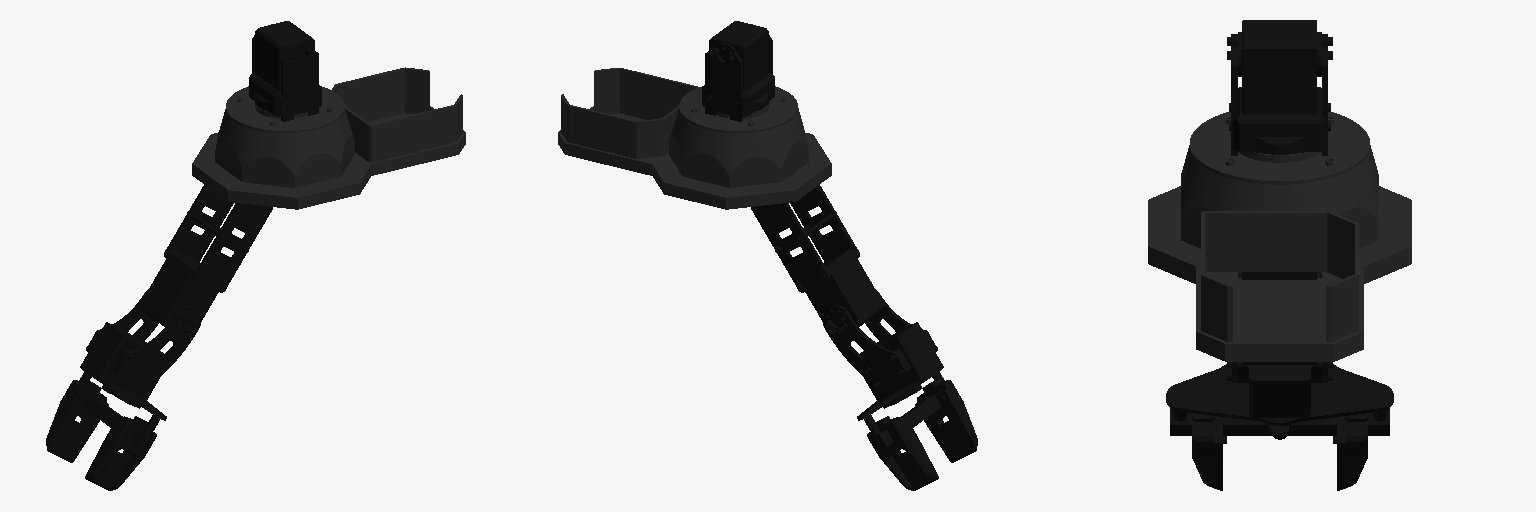
The robot description file, URDF, robot "px_robot_CV":
<?xml version="1.0"?>
<robot name="px_robot_CV">

  <link name="world"></link>

  <link name="base_link">
    <visual name="">
      <origin xyz="0.0 0.0 0.0" rpy="0.0 0.0 -1.5707"/><!--Simplemente se giró pi/2 el mundo-->
      <geometry>
        <mesh filename="package://px_robot_CV/meshes/PX100_Base.stl" scale="0.001 0.001 0.001"/><!--se asigna el modelo base y su escala -->
      </geometry>
      <material name="dark gray">
        <color rgba="0.2 0.2 0.2 1.0"/><!--color-->
      </material>
    </visual>
  </link>

  <joint name="world_fixed" type="fixed"> <!--primera junta que conecta la base con el piso -->
    <origin xyz="0.0 0.0 0.0" rpy="0.0 0.0 0.0"/>
    <parent link="world"/>
    <child link="base_link"/>
  </joint>

  <link name="link1"><!--el primero que es la base giratoria-->
    <visual name="">
      <origin xyz="0.0 0.0 0.0" rpy="3.141592 3.141592 1.5707"/><!--los origenees siempre son cero cero cero porque su marco es respecto al link que le correspode -->
      <geometry>
        <mesh filename="package://px_robot_CV/meshes/PX100_Shoulder.stl" scale="0.001 0.001 0.001"/>
      </geometry>
      <material name="dark gray">
        <color rgba="0.1 0.1 0.1 1.0"/>
      </material>
    </visual>
  </link>

  <joint name="joint_1" type="revolute"><!--ubicación junta 1 respecto a la base-->
    <origin xyz="0.0 0.0 0.049" rpy="0.0 0.0 3.141592"/>
    <parent link="base_link"/>
    <child link="link1"/>
    <axis xyz="0 0 1"/><!--el eje sobre el que se rota sibre su marco de referencia-->
    <limit lower="-2.32" upper="2.32" effort="10.0" velocity="1.57"/><!--limites-->
  </joint>

  <link name="link2">
    <visual name="">
      <origin xyz="0.0 0.0 0.0" rpy="0.0 1.5707 -1.5707"/>
      <geometry>
        <mesh filename="package://px_robot_CV/meshes/PX100_Bicep.stl" scale="0.001 0.001 0.001"/>
      </geometry>
      <material name="dark gray">
        <color rgba="0.1 0.1 0.1 1.0"/>
      </material>
    </visual>
  </link>

  <joint name="joint_2" type="revolute">
    <origin xyz="0.0 0.0 0.047" rpy="1.5707 0.0 0.0"/> <!--offset en angulos fijos-->
    <parent link="link1"/>
    <child link="link2"/>
    <axis xyz="0 0 1"/>
    <limit lower="-2.32" upper="2.32" effort="10.0" velocity="1.57"/>
  </joint>

  <link name="link3">
    <visual name="">
      <origin xyz="0.0 0.0 0.0" rpy="0.0 1.5707 1.261094"/>
      <geometry>
        <mesh filename="package://px_robot_CV/meshes/PX100_Forearm.stl" scale="0.001 0.001 0.001"/>
      </geometry>
      <material name="dark gray">
        <color rgba="0.1 0.1 0.1 1.0"/>
      </material>
    </visual>
  </link>

  <joint name="joint_3" type="revolute">
    <origin xyz="0.032 -0.100 0" rpy="3.141592 0.0 -1.2611"/>
    <parent link="link2"/>
    <child link="link3"/>
    <axis xyz="0 0 1"/>
    <limit lower="-2.32" upper="2.32" effort="10.0" velocity="1.57"/>
  </joint>

  <link name="link4">
    <visual name="">
      <origin xyz="0.0 0.0 0.0" rpy="0.0 1.5707 1.5707"/>
      <geometry>
        <mesh filename="package://px_robot_CV/meshes/PX100_Wrist.stl" scale="0.001 0.001 0.001"/>
      </geometry>
      <material name="dark gray">
        <color rgba="0.1 0.1 0.1 1.0"/>
      </material>
    </visual>
  </link>

  <joint name="joint_4" type="revolute">
    <origin xyz="0.095242 -0.030478 0" rpy="-3.141592 0.0 -0.3097"/>
    <parent link="link3"/>
    <child link="link4"/>
    <axis xyz="0 0 1"/>
    <limit lower="-2.32" upper="2.32" effort="10.0" velocity="1.57"/>
  </joint>

  <link name="tcp_link"></link>

  <joint name="tcp" type="fixed"><!--esta es la herramienta-->
    <origin xyz="0.100 0.0 0" rpy="1.5707 0.0 1.5707"/><!--ubicación y orientación de la herramienta -->
    <parent link="link4"/>
    <child link="tcp_link"/>
  </joint>

</robot>

--- What the picture shows (computed from the rendered views, not written in the file) ---
The picture shows the robot from 3 angles, left to right: view 1: azimuth 30°, elevation 25°; view 2: azimuth 150°, elevation 25°; view 3: azimuth 270°, elevation 25°; orthographic projection.
Robot: px_robot_CV — 7 links, 6 joints (4 revolute, 2 fixed); root link world; default pose: every joint at zero.
Links seen in each view (by area): view 1: base_link, link4, link3, link1, link2; view 2: base_link, link4, link3, link1, link2; view 3: base_link, link4, link1, link2.
Link boxes in pixels (x1=…): base_link: x1=192, y1=67, x2=465, y2=209; link4: x1=46, y1=290, x2=200, y2=490; link3: x1=139, y1=185, x2=272, y2=326; link1: x1=249, y1=21, x2=321, y2=116; link2: x1=252, y1=35, x2=318, y2=121; base_link: x1=558, y1=68, x2=831, y2=209; link4: x1=823, y1=290, x2=977, y2=490; link3: x1=751, y1=185, x2=884, y2=326; link1: x1=702, y1=21, x2=774, y2=116; link2: x1=705, y1=35, x2=772, y2=121; base_link: x1=1148, y1=112, x2=1411, y2=361; link4: x1=1166, y1=362, x2=1393, y2=490; link1: x1=1229, y1=20, x2=1330, y2=154; link2: x1=1227, y1=34, x2=1332, y2=279.
Size in the robot's own frame: 0.3048 by 0.12 by 0.3023 metres.
Meshes: 5 distinct files referenced, 5 mesh visuals loaded (5 binary STL).